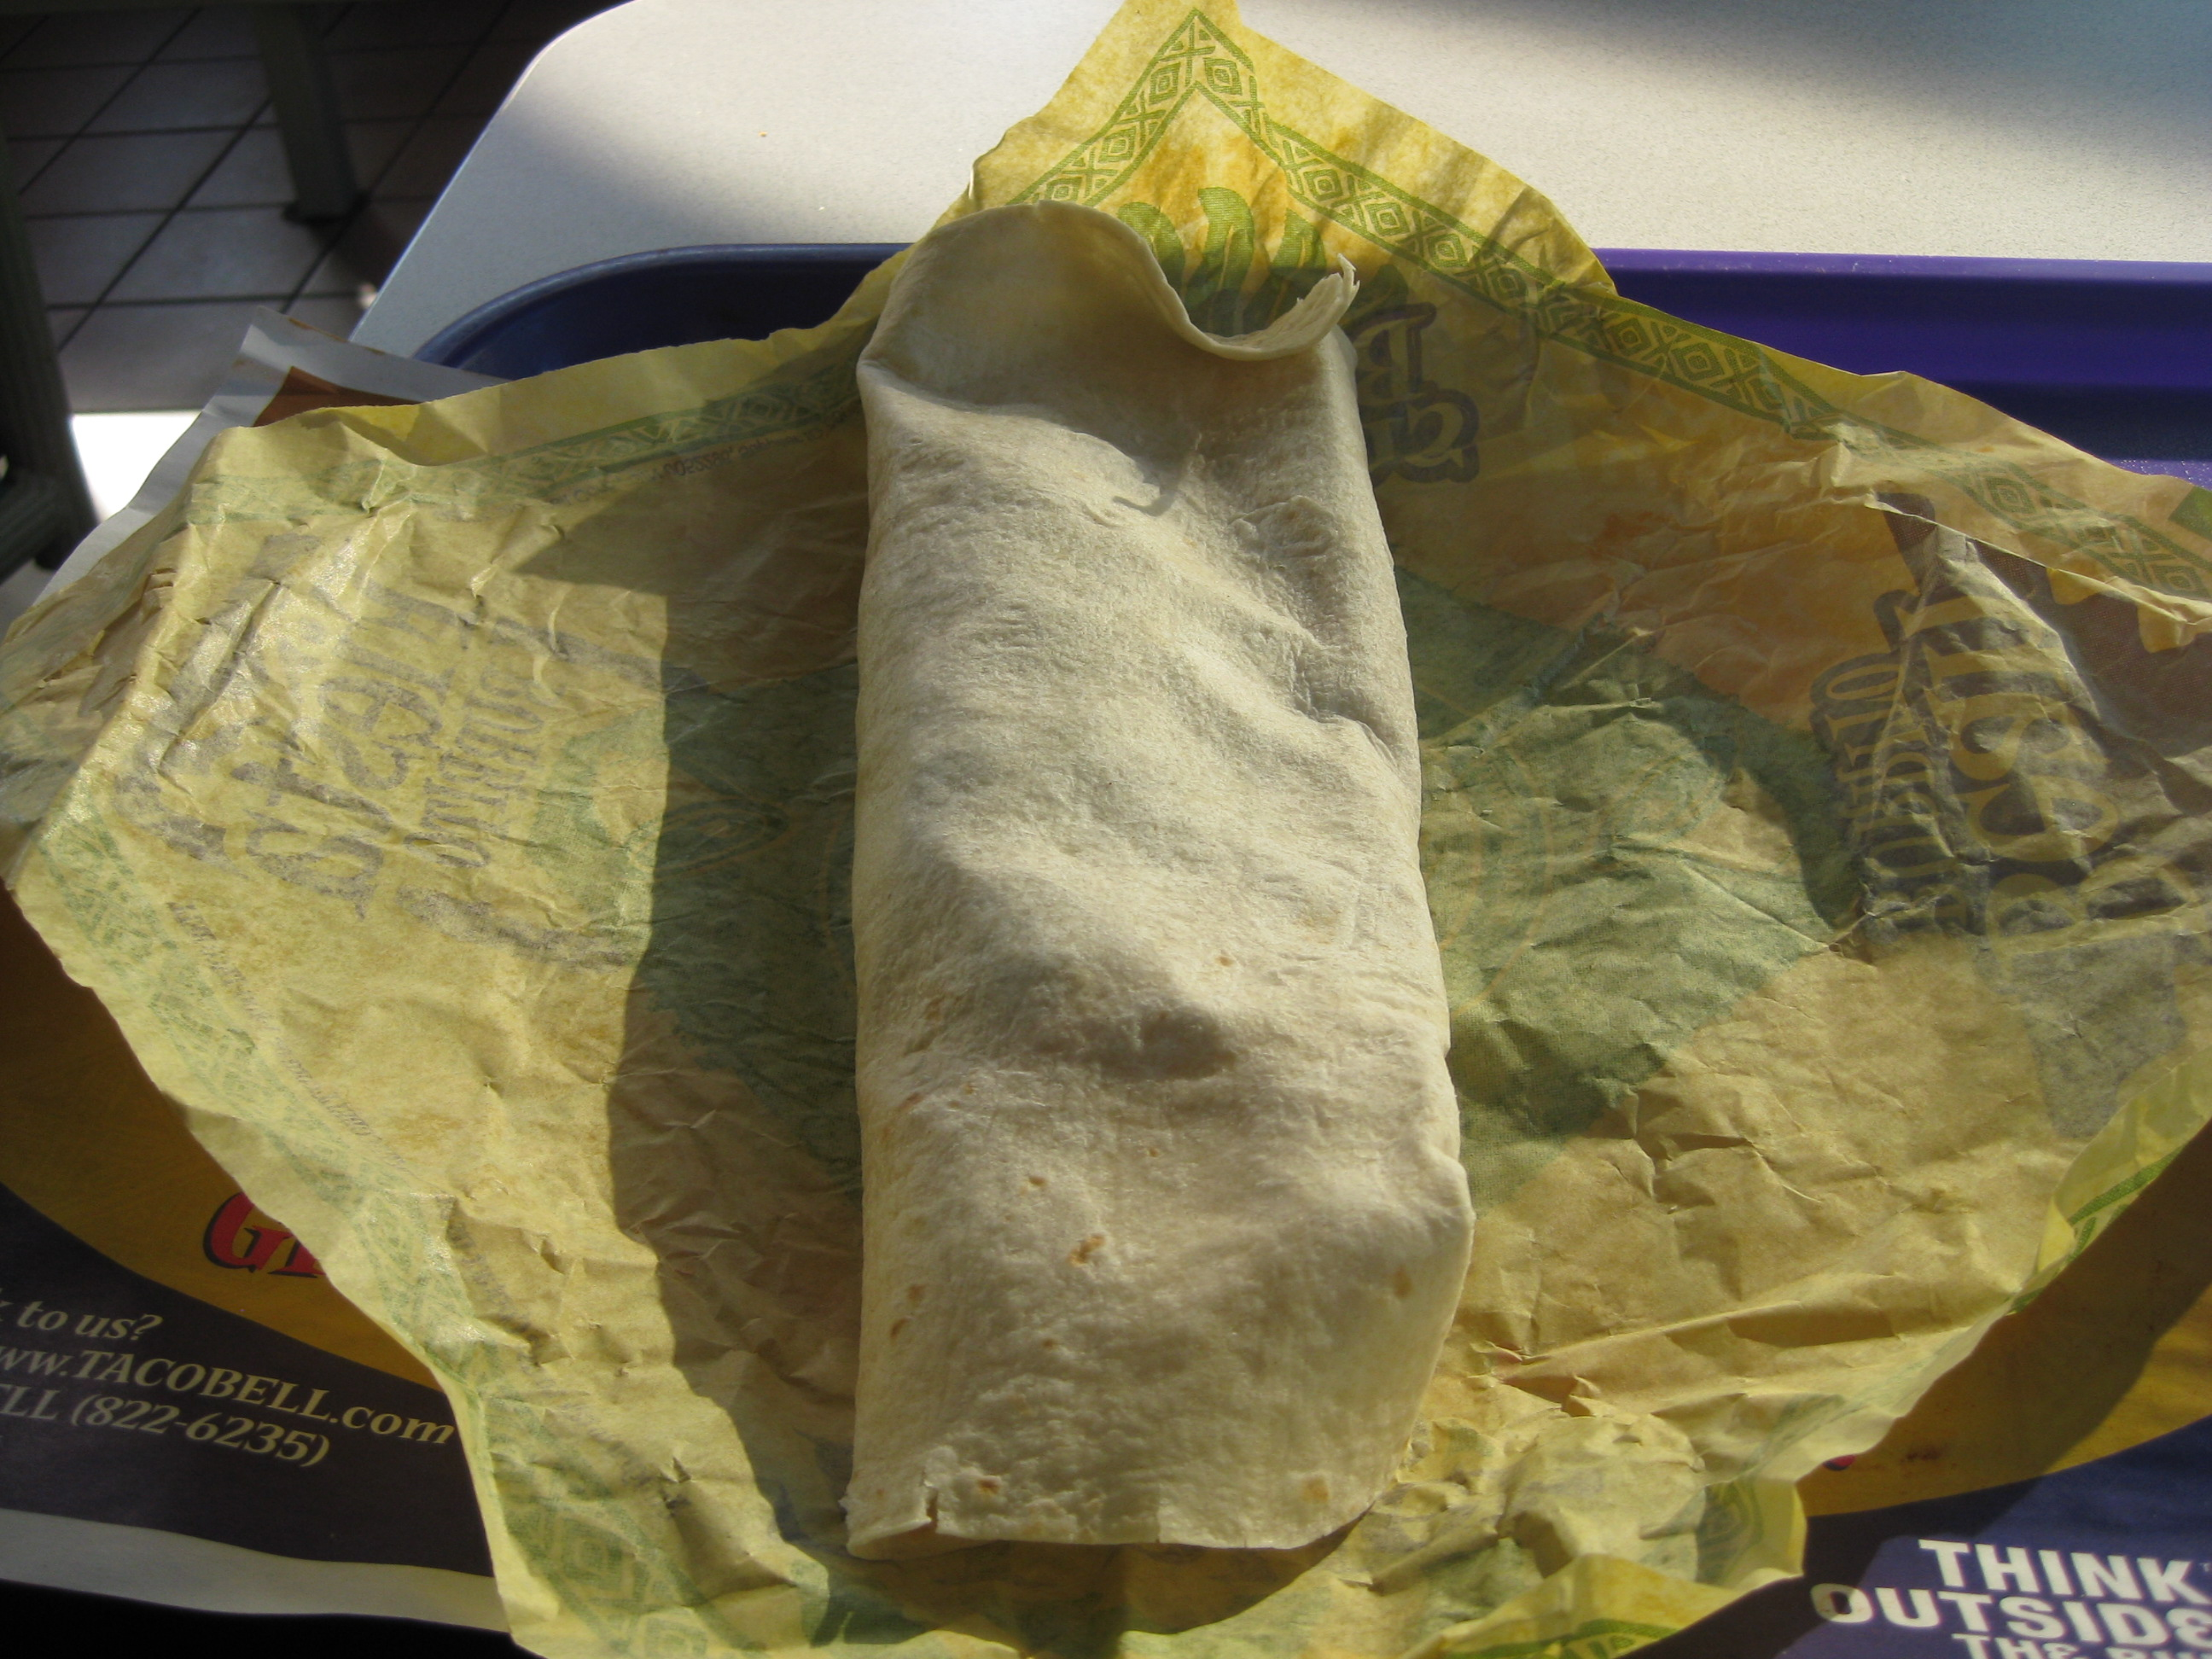burrito: (823, 160, 1552, 1578)
